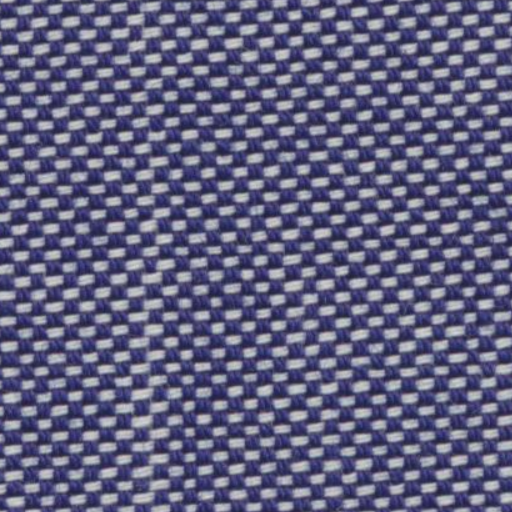TuoSha: (102, 10, 192, 494)
